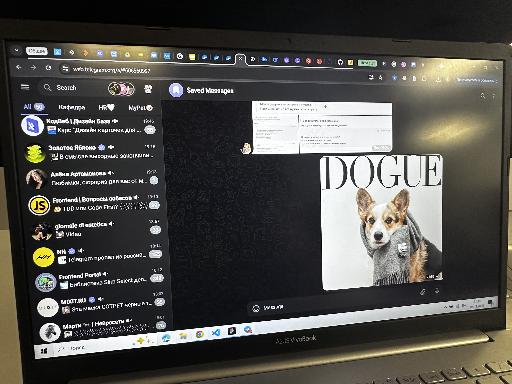telegram: (19, 76, 502, 342)
